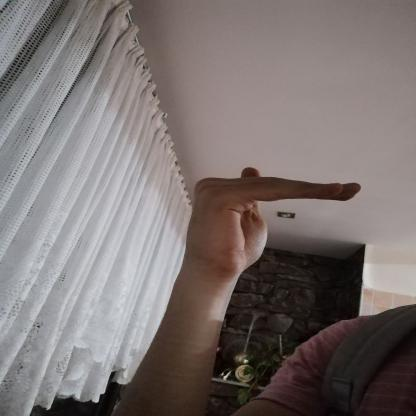KHAA: (168, 155, 380, 294)
